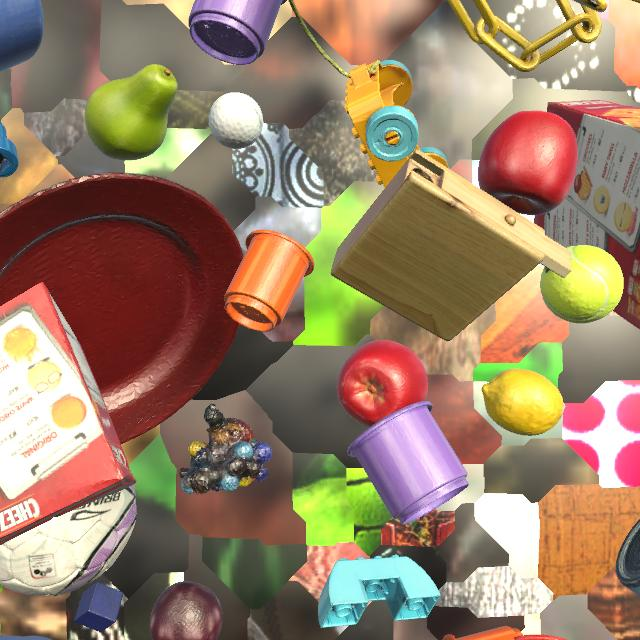ycb_003_cracker_box: (0, 282, 137, 545), (534, 100, 640, 329)
ycb_007_tuna_fish_can: (615, 519, 640, 597)
ycb_013_apple: (478, 110, 578, 215), (337, 340, 428, 427)
ycb_014_lemon: (482, 369, 563, 436)
ycb_016_pear: (84, 64, 178, 161)
ycb_018_plum: (150, 581, 223, 640)
